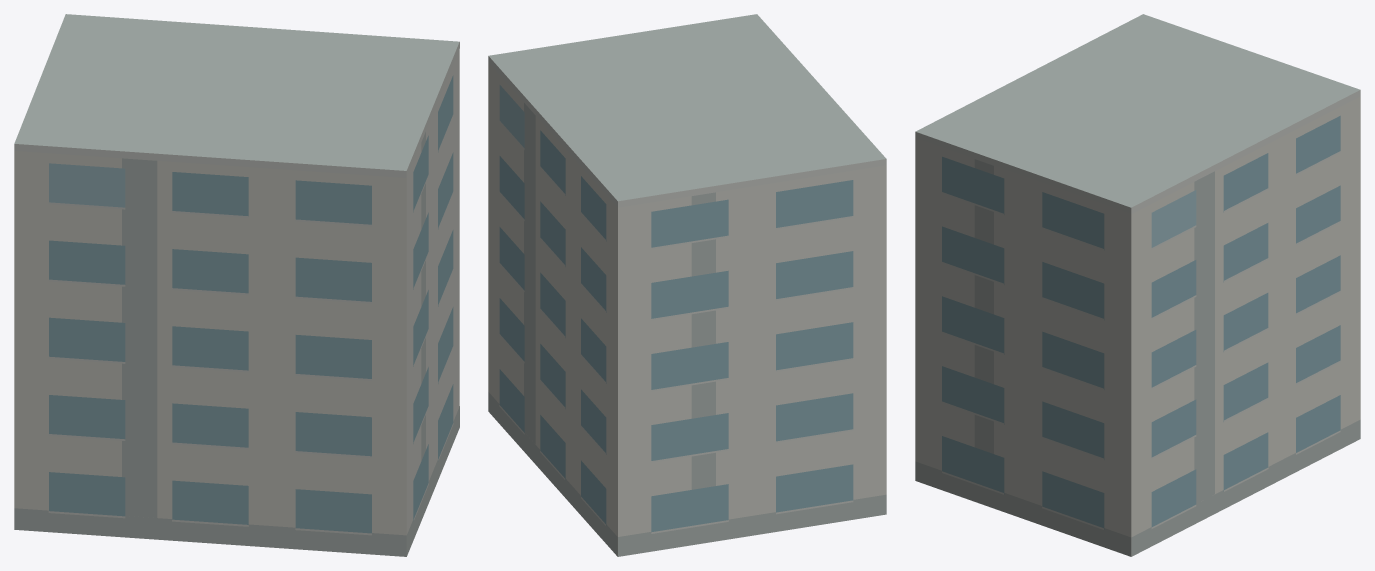
Rendered from survey-upis-33004551.glb.
3 renders of one model, left to right at view 1: azimuth 30°, elevation 25°; view 2: azimuth 150°, elevation 25°; view 3: azimuth 270°, elevation 25°, orthographic. The views are drawn at different scales.
Visible parts, largest first — view 1: survey-upis-33004551.tmp; view 2: survey-upis-33004551.tmp; view 3: survey-upis-33004551.tmp.
Boxes of the visible parts, bbox=[...] form: survey-upis-33004551.tmp: bbox=[14, 14, 459, 556]; survey-upis-33004551.tmp: bbox=[488, 14, 886, 556]; survey-upis-33004551.tmp: bbox=[915, 14, 1360, 556].
Size of the model in its own units: 15.72 by 13.2 by 15.26.
